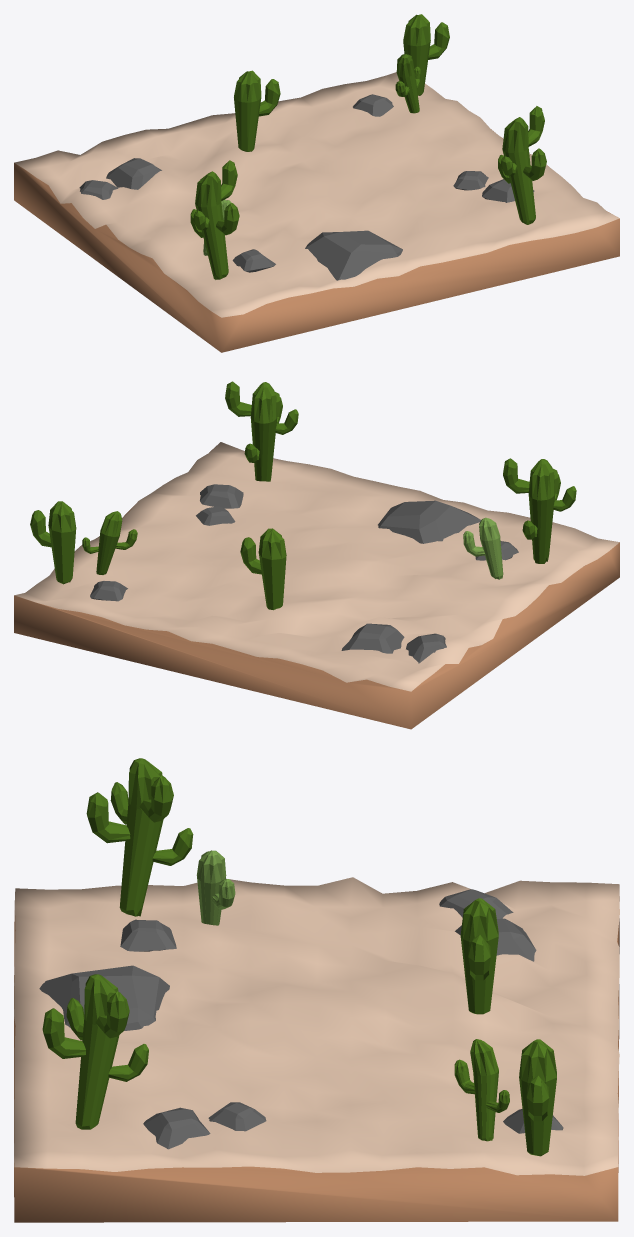
File: Desert2.glb
The picture shows the model from 3 angles, top to bottom: view 1: azimuth 30°, elevation 25°; view 2: azimuth 150°, elevation 25°; view 3: azimuth 270°, elevation 25°; orthographic projection. The views are drawn at different scales.
Visible parts, largest first — view 1: Plane.010, Stone, Catcus1, Catcus.3, Catcus 6, Catcus 4, Catcus.2; view 2: Plane.010, Stone, Catcus1, Catcus.3, Catcus 4, Catcus 6, Catcus.2, Catcus.5; view 3: Plane.010, Stone, Catcus1, Catcus.3, Catcus 4, Catcus 6, Catcus.2, Catcus.5.
Part boxes in pixels (x1,y1,x2,y2): Plane.010: (14,72,619,352); Stone: (79,94,534,280); Catcus1: (190,160,239,279); Catcus.3: (498,106,546,224); Catcus 6: (234,70,280,151); Catcus 4: (403,14,449,95); Catcus.2: (395,54,420,113); Plane.010: (14,442,619,729); Stone: (90,484,518,663); Catcus1: (503,458,576,563); Catcus.3: (225,381,298,481); Catcus 4: (30,501,76,584); Catcus 6: (240,528,286,610); Catcus.2: (82,511,137,574); Catcus.5: (463,517,503,579); Plane.010: (14,877,619,1222); Stone: (39,889,563,1149); Catcus1: (86,758,193,916); Catcus.3: (42,974,148,1129); Catcus 4: (519,1039,556,1156); Catcus 6: (460,898,498,1014); Catcus.2: (454,1039,509,1141); Catcus.5: (196,850,235,925).
Size of the model in its own units: 42.43 by 14.24 by 37.64.
